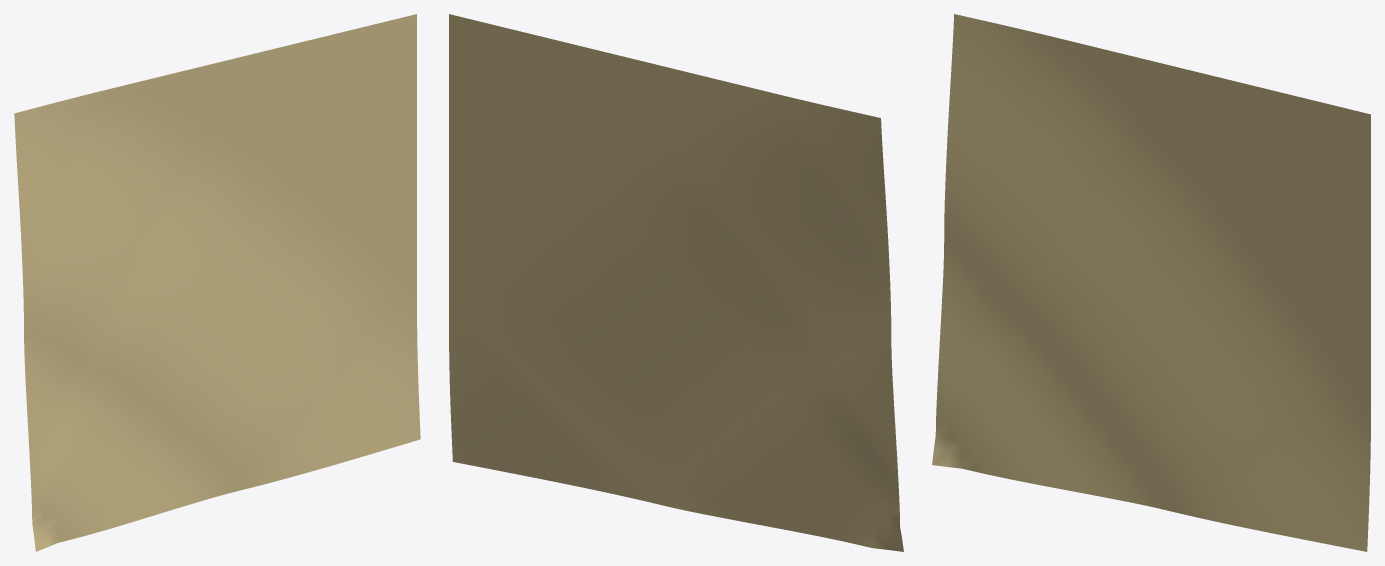
Rendered from island_terrain_16_10.obj.
The picture shows the model from 3 angles, left to right: view 1: azimuth 30°, elevation 25°; view 2: azimuth 150°, elevation 25°; view 3: azimuth 330°, elevation 25°; orthographic projection. The views are drawn at different scales.
Parts seen in each view (by area): view 1: island_terrain_16_10; view 2: island_terrain_16_10; view 3: island_terrain_16_10.
Part boxes in pixels (x1,y1,x2,y2): island_terrain_16_10: (14,14,420,551); island_terrain_16_10: (449,14,903,551); island_terrain_16_10: (932,14,1370,551).
Size of the model in its own units: 256 by 256 by 25.03.
